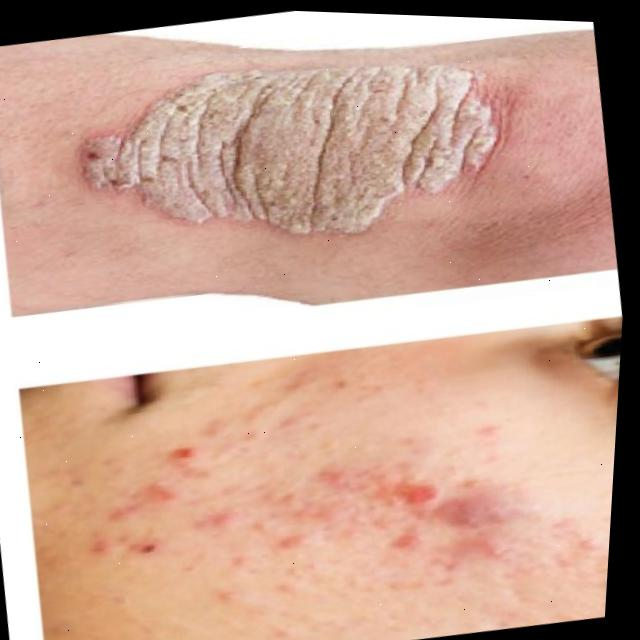Eczema: (83, 11, 489, 275), (71, 413, 513, 640)
